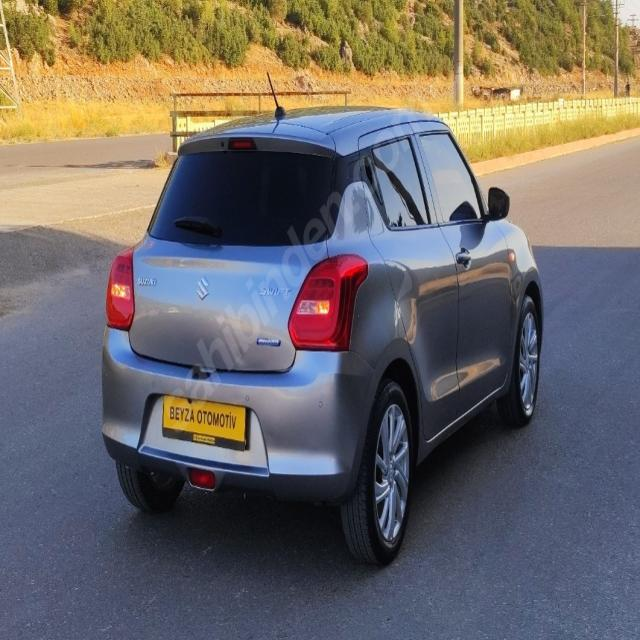suzuki: (194, 271, 210, 306)
